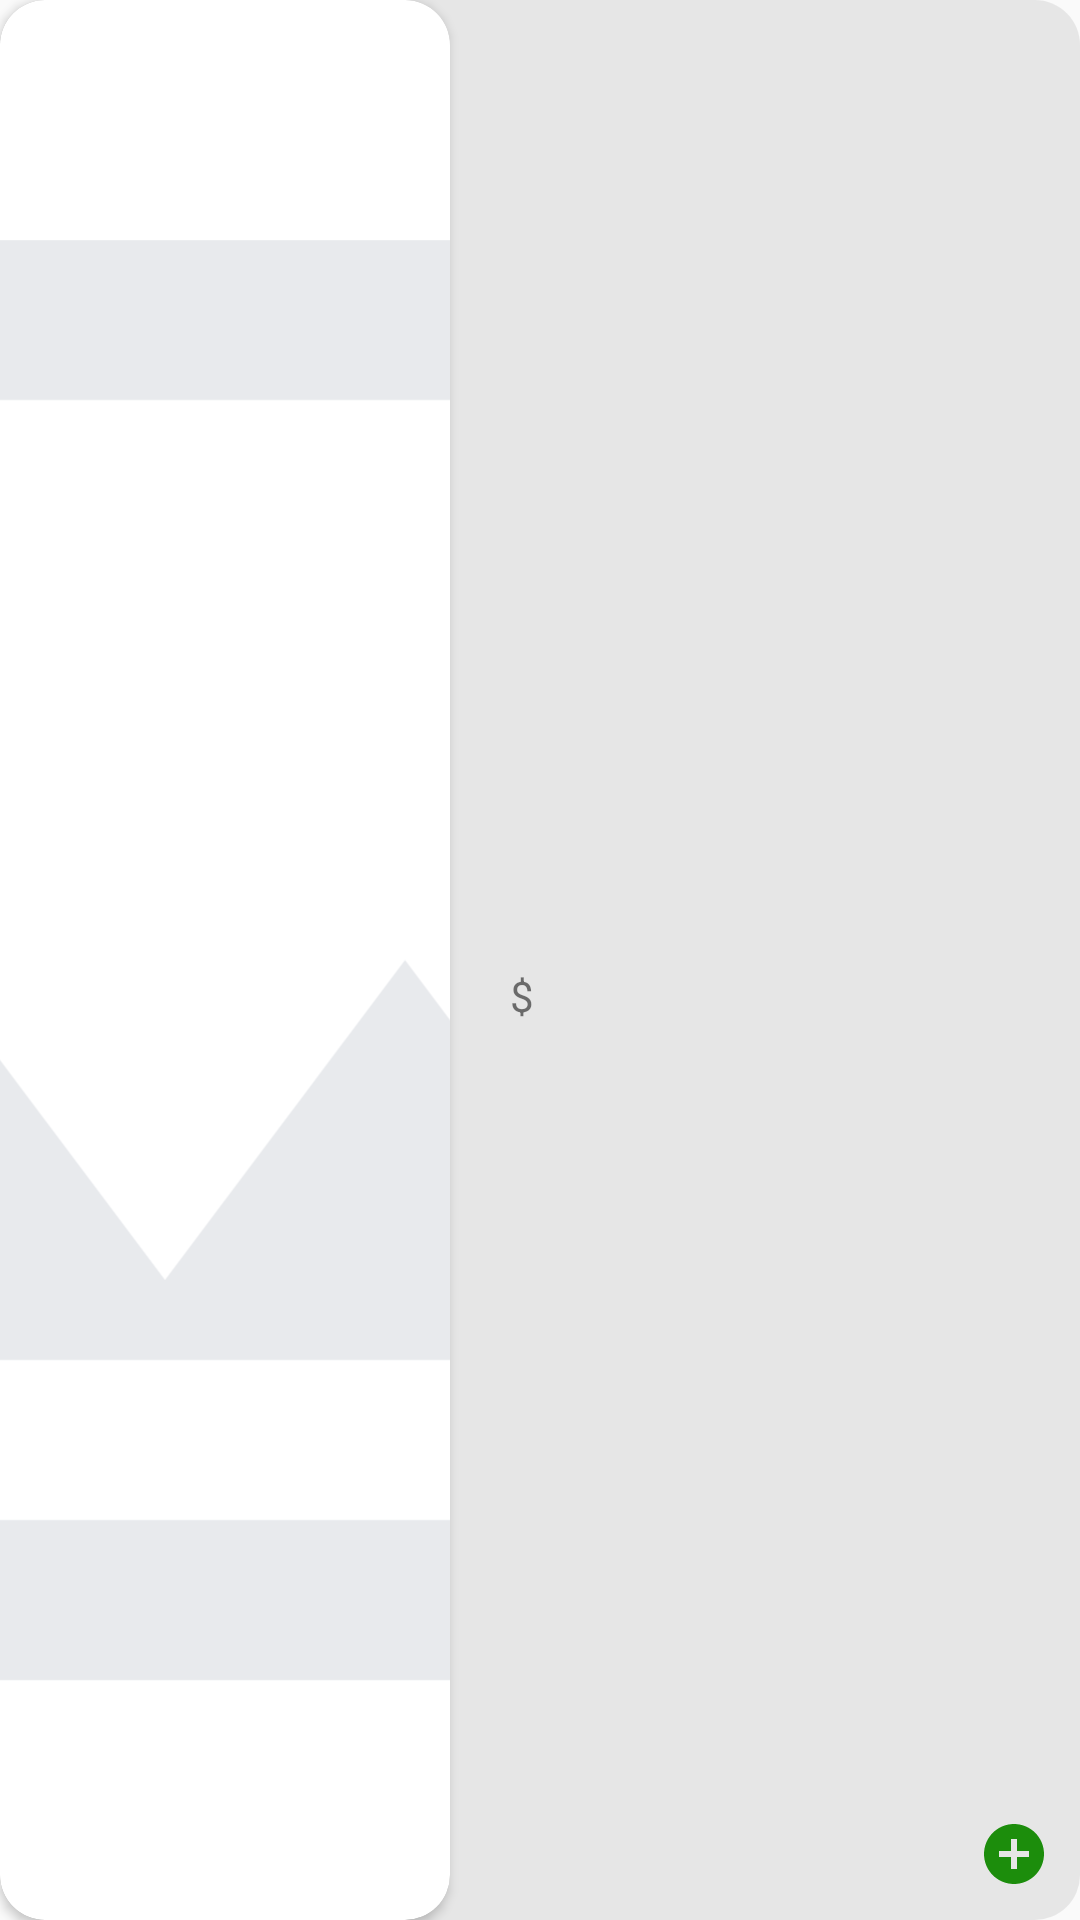

Screen size 1080*1920. Icon name, then its box in pixels as [left=x1, top=y1, right=x2, bottom=y2]:
add circle: [left=984, top=1824, right=1044, bottom=1884]
